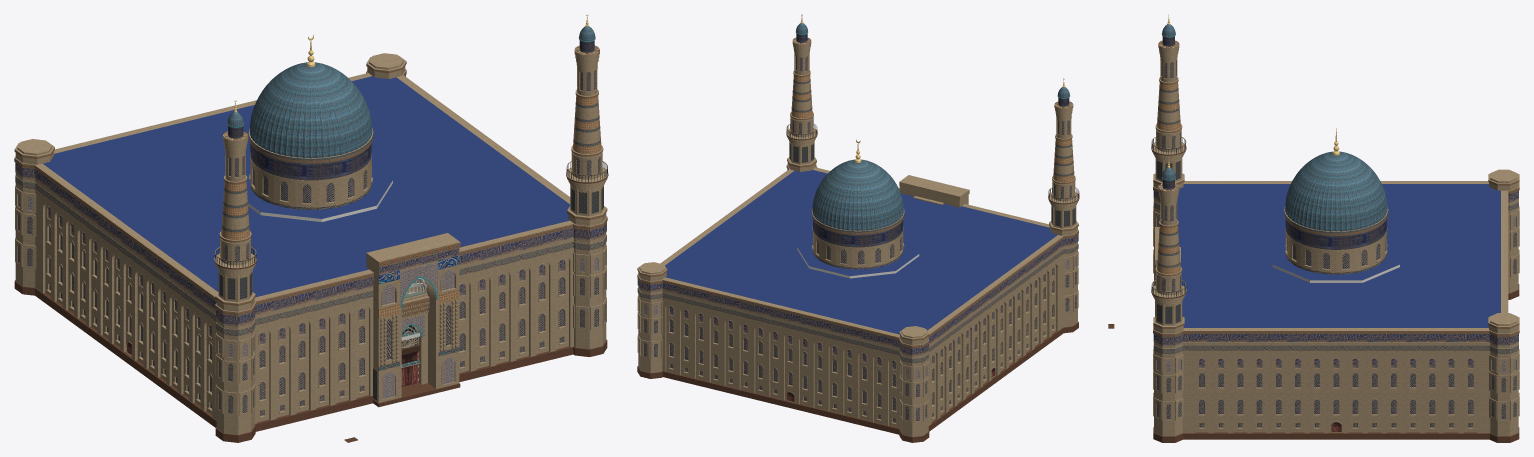
File: devonaboy_web.glb
3 views of the same model, side by side, from view 1: azimuth 30°, elevation 25°; view 2: azimuth 150°, elevation 25°; view 3: azimuth 270°, elevation 25° (orthographic). The views are drawn at different scales.
Visible parts, largest first — view 1: Devonaboy_Jome_Masjidi; view 2: Devonaboy_Jome_Masjidi; view 3: Devonaboy_Jome_Masjidi.
Part boxes in pixels (box(x1,y1,x2,y2)): Devonaboy_Jome_Masjidi: box(14, 14, 608, 442); Devonaboy_Jome_Masjidi: box(637, 14, 1079, 442); Devonaboy_Jome_Masjidi: box(1108, 14, 1519, 442).
Bounding box in the file's own units: 65.68 × 54.08 × 72.21.
Materials: 67 (35 with a texture image).
